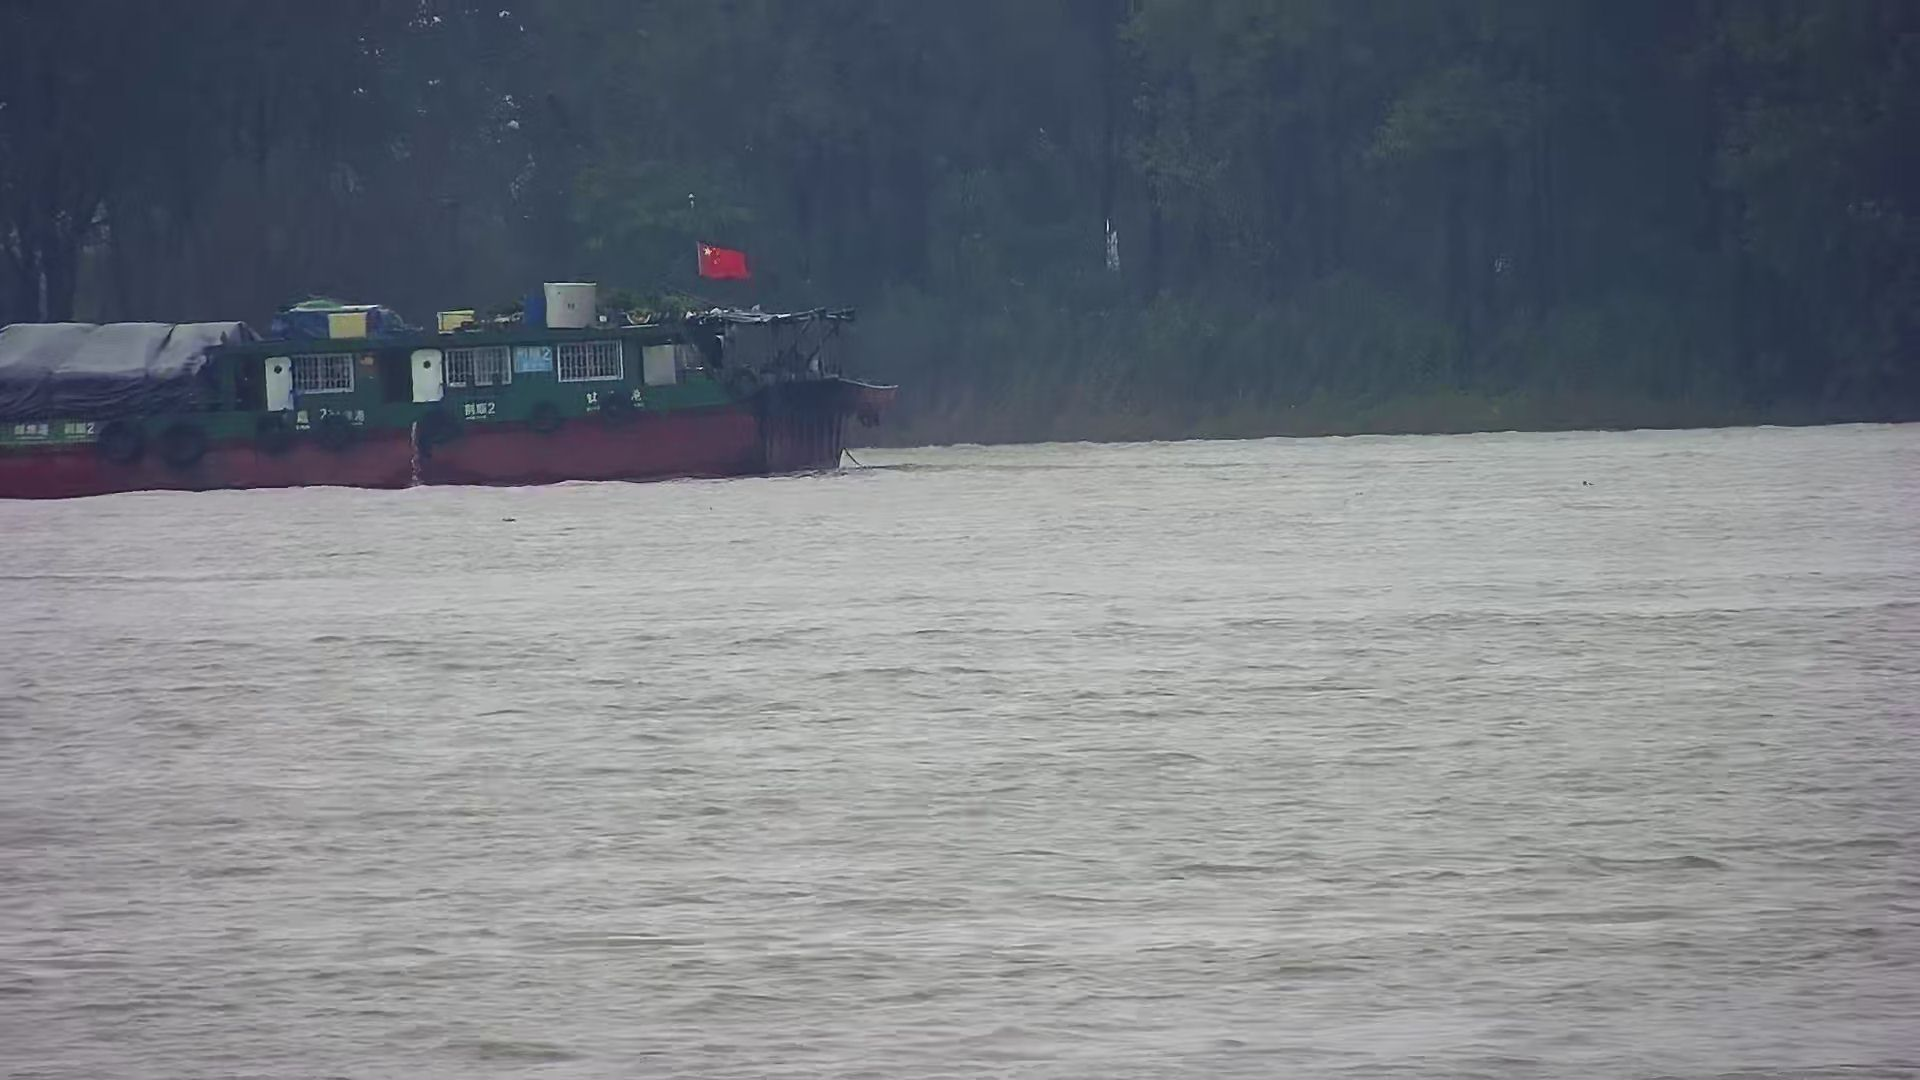ship: (1, 237, 899, 498)
